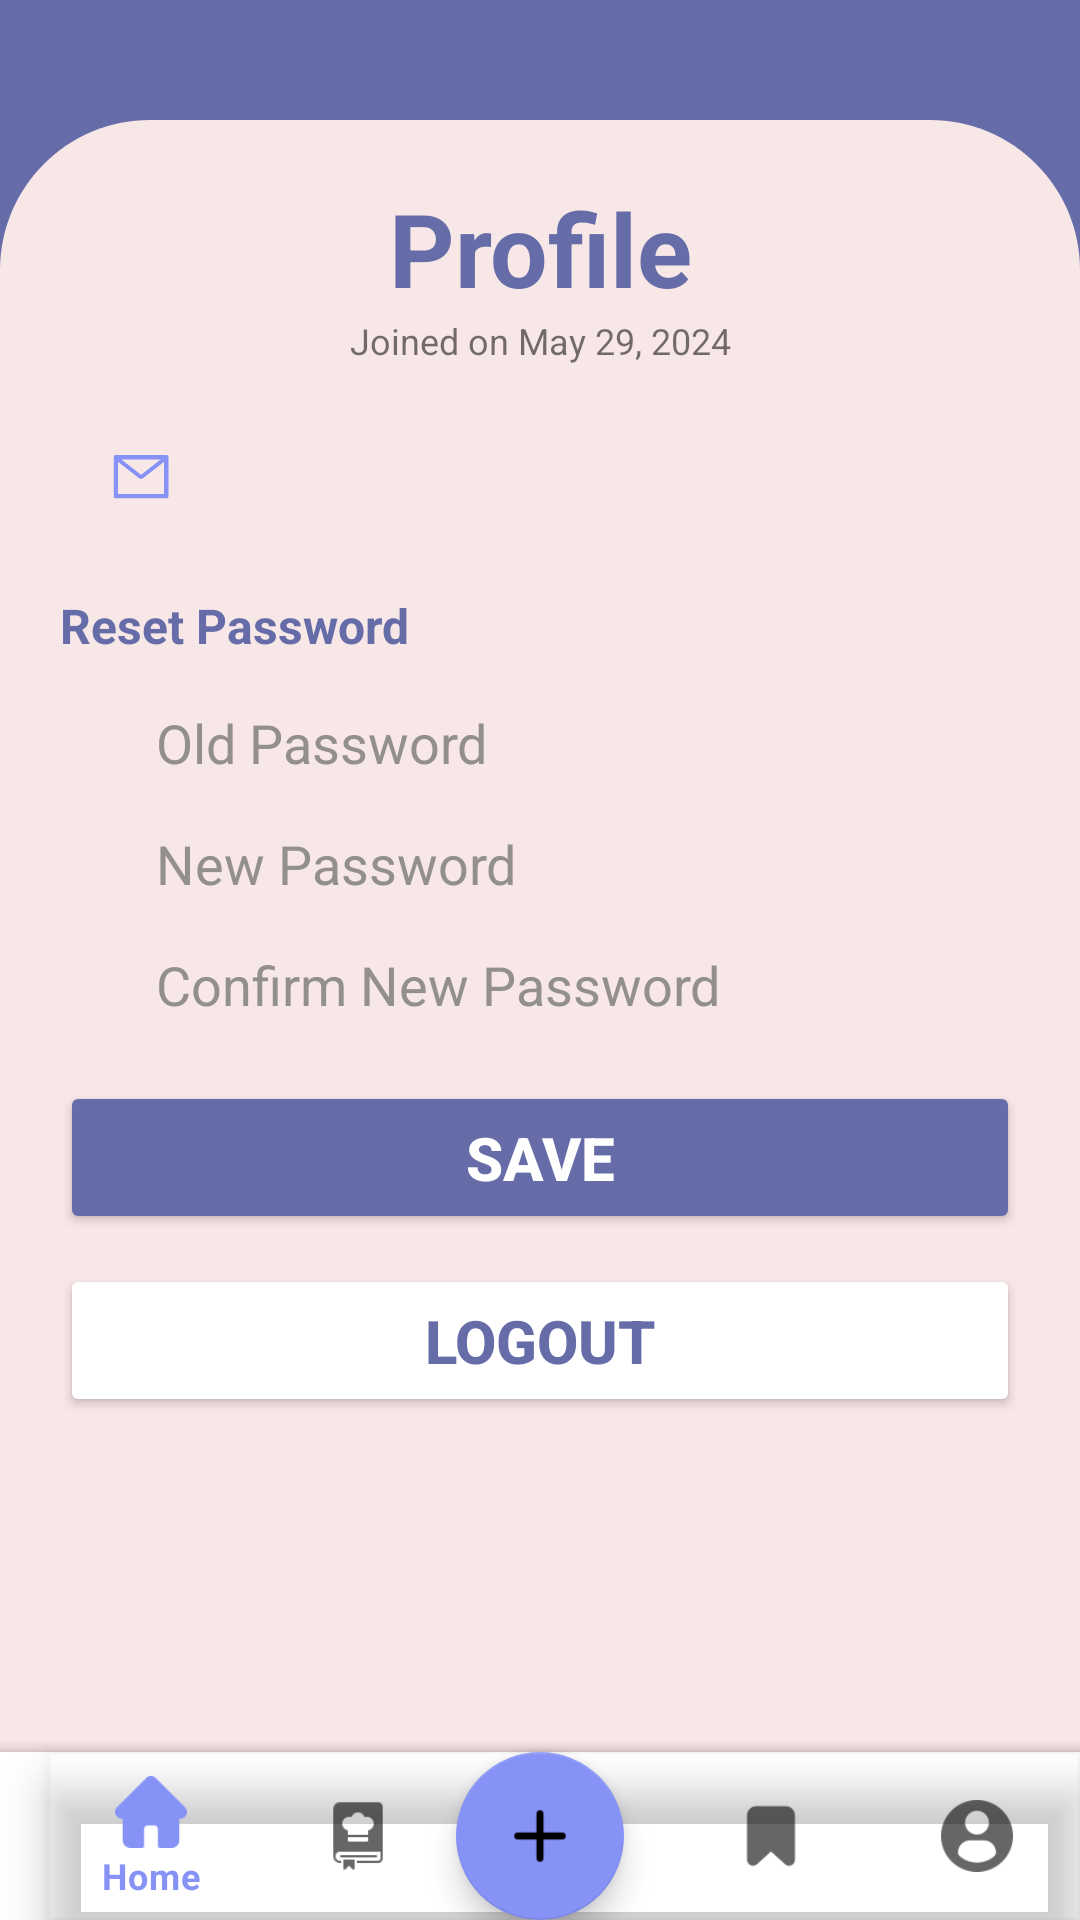

Where to tap for icons on this 1080*1920 app screen, as point (x, y):
add: point (540, 1836)
